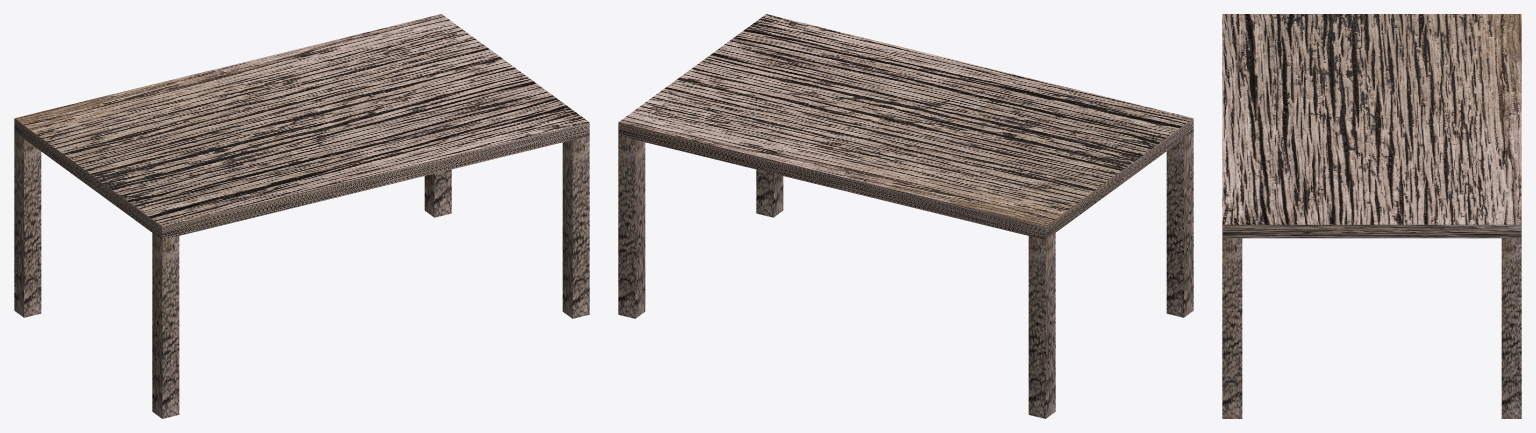
The model's file is Table (Only).FBX.
The picture shows the model from 3 angles, left to right: view 1: azimuth 30°, elevation 25°; view 2: azimuth 150°, elevation 25°; view 3: azimuth 270°, elevation 25°; orthographic projection.
Visible parts, largest first — view 1: Top, Left Front Leg, Right Front Leg, Left Back Leg, Right Back Leg; view 2: Top, Left Back Leg, Right Back Leg, Left Front Leg, Right Front Leg; view 3: Top, Right Front Leg, Right Back Leg.
Boxes of the visible parts, box(x1,y1,x2,y2) form: Top: box(14, 14, 589, 239); Left Front Leg: box(152, 233, 179, 418); Right Front Leg: box(562, 136, 589, 318); Left Back Leg: box(14, 132, 41, 317); Right Back Leg: box(424, 169, 451, 217); Top: box(618, 14, 1193, 239); Left Back Leg: box(1028, 233, 1055, 418); Right Back Leg: box(618, 136, 645, 318); Left Front Leg: box(1166, 132, 1193, 317); Right Front Leg: box(756, 169, 783, 217); Top: box(1222, 14, 1521, 238); Right Front Leg: box(1222, 238, 1242, 418); Right Back Leg: box(1501, 238, 1521, 418).
Bounding box in the file's own units: 100 × 60 × 43.
